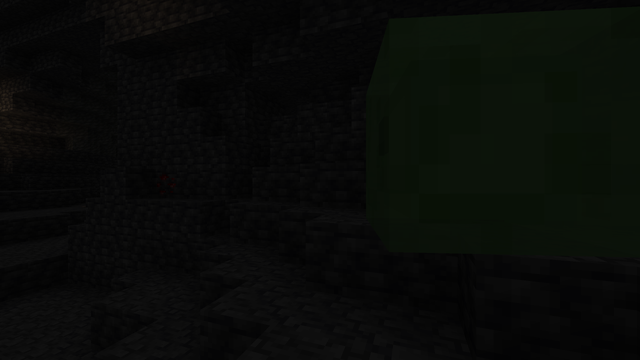slimes: (354, 4, 598, 260)
